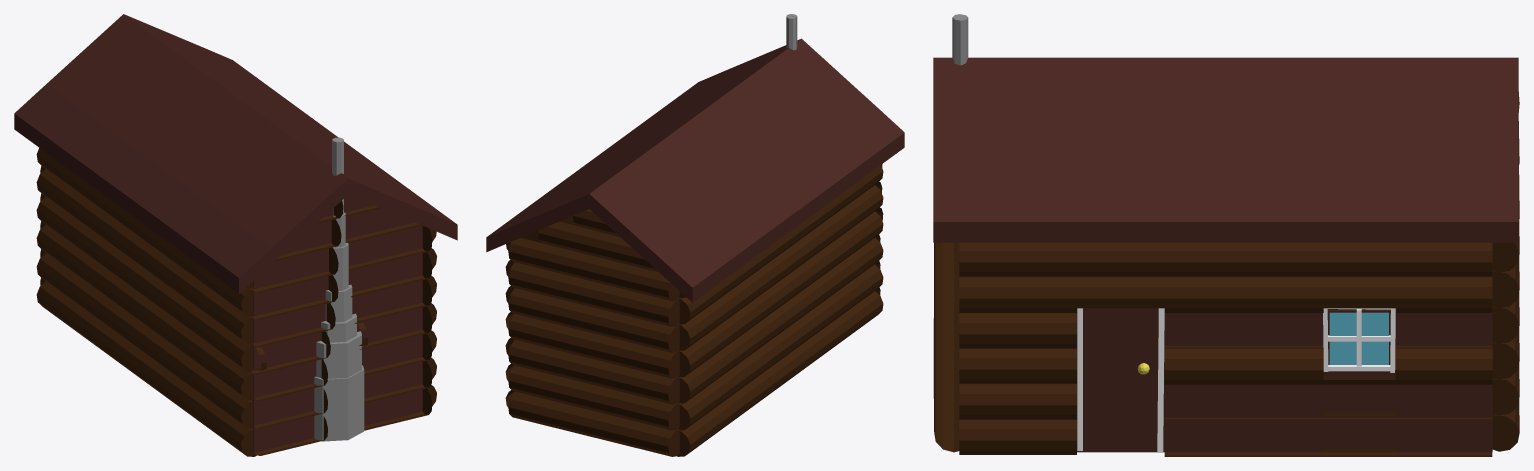
File: Cabin.fbx
The picture shows the model from 3 angles, left to right: view 1: azimuth 30°, elevation 25°; view 2: azimuth 150°, elevation 25°; view 3: azimuth 270°, elevation 25°; orthographic projection. The views are drawn at different scales.
Visible parts, largest first — view 1: main, walls, chimney; view 2: walls, main; view 3: main, walls, window, windowframe, doorframe, chimney.
Boxes of the visible parts, box(x1,y1,x2,y2) form: main: box(14, 14, 457, 453); walls: box(36, 148, 436, 456); chimney: box(314, 137, 364, 441); walls: box(505, 164, 883, 456); main: box(486, 38, 904, 428); main: box(933, 57, 1518, 452); walls: box(934, 92, 1519, 456); window: box(1329, 312, 1388, 364); windowframe: box(1323, 308, 1395, 372); doorframe: box(1077, 308, 1164, 451); chimney: box(933, 14, 968, 398).
Bounding box in the file's own units: 741 × 961 × 1323.
